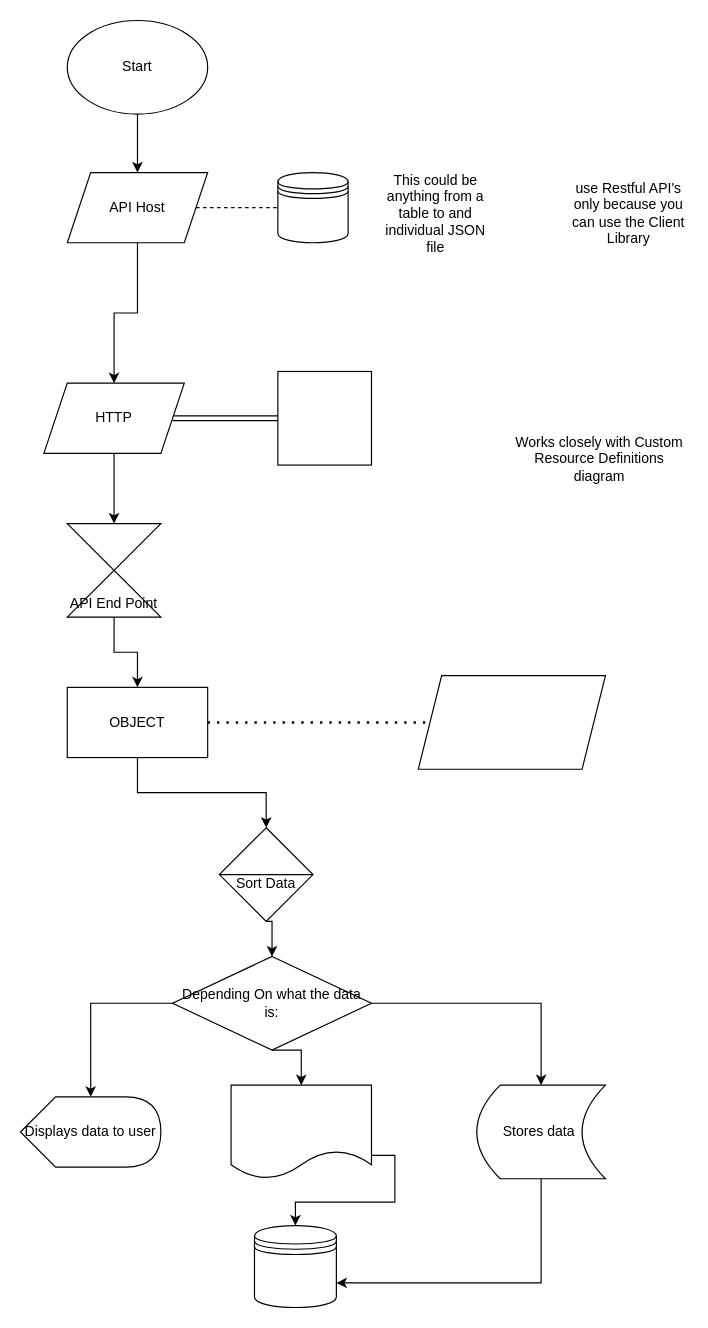
The diagram is 708 pixels wide and 1328 high, and some of its shapes have lost their labels. Each missing label, with the centre of its shape:
Any of the following: Cluster Pod NameSpace: (511,722)
API Database: (312,207)
Docker Application Database: (294,1265)
POST PUT PATCH DELETE GET: (324,417)
Stores the document in a database: (300,1131)
